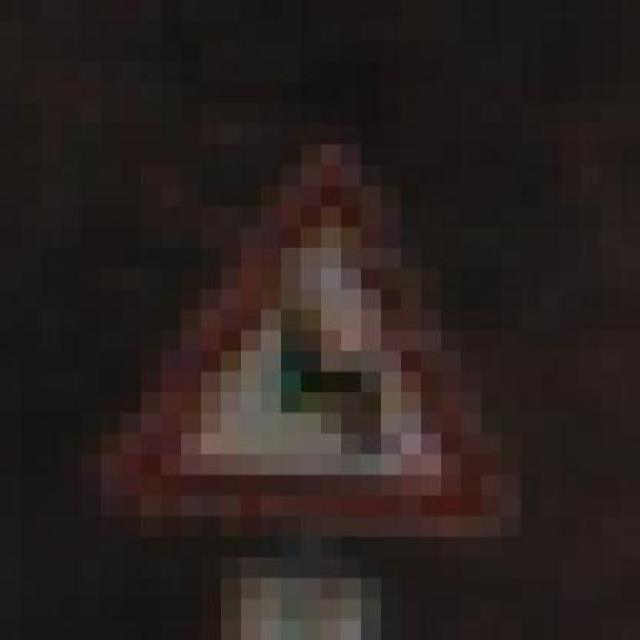Left Zig Zag Traffic: (107, 142, 527, 556)
